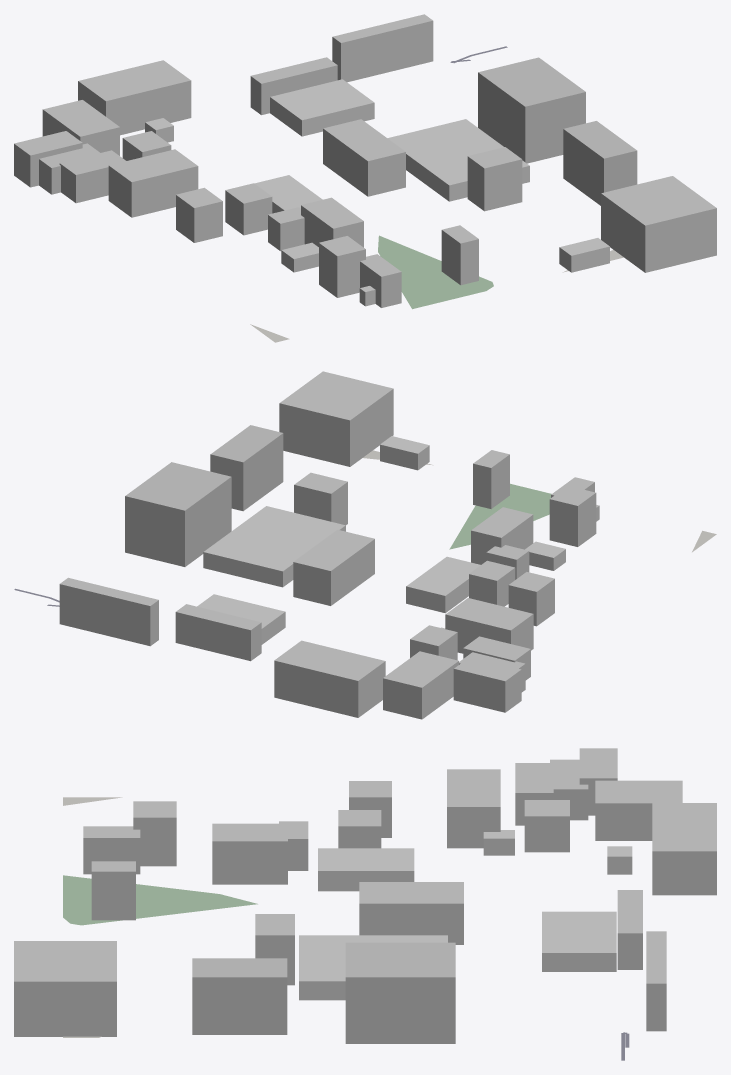
File: 115_84_mid.glb
3 views of the same model, one above another, from view 1: azimuth 30°, elevation 25°; view 2: azimuth 150°, elevation 25°; view 3: azimuth 270°, elevation 25° (orthographic). The views are drawn at different scales.
Bounding box in the file's own units: 528 × 59.36 × 557.
